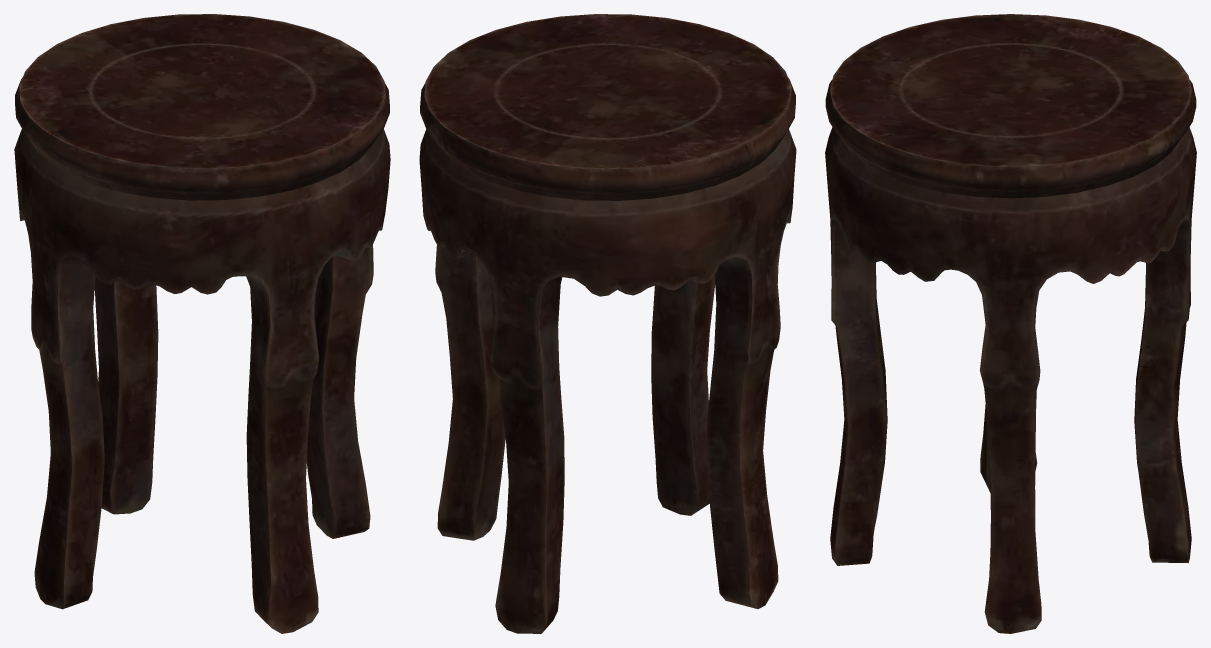
File: WoodenTable_02.glb
3 views of the same model, side by side, from view 1: azimuth 30°, elevation 25°; view 2: azimuth 150°, elevation 25°; view 3: azimuth 270°, elevation 25° (orthographic).
Parts seen in each view (by area): view 1: WoodenTable_02; view 2: WoodenTable_02; view 3: WoodenTable_02.
Part boxes in pixels (x1,y1,x2,y2): WoodenTable_02: (14,14,390,633); WoodenTable_02: (419,14,796,633); WoodenTable_02: (825,14,1196,633).
Bounding box in the file's own units: 0.3007 × 0.4177 × 0.3007.
Materials: 1 (1 with a texture image).
